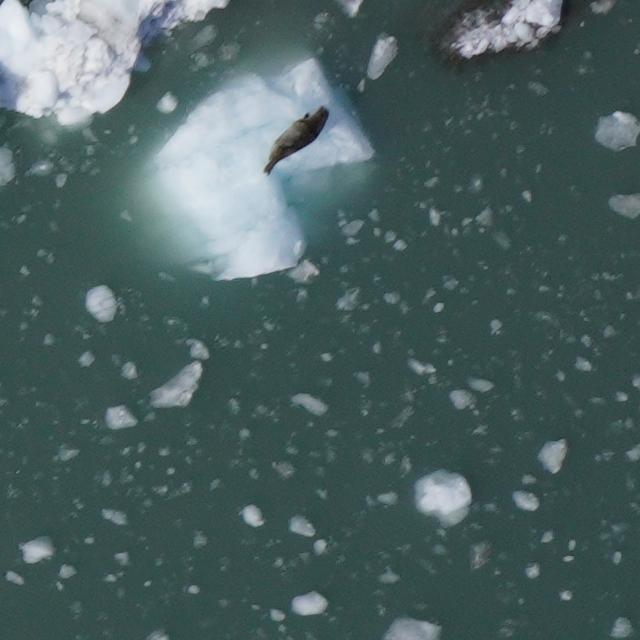seal: (260, 102, 332, 180)
